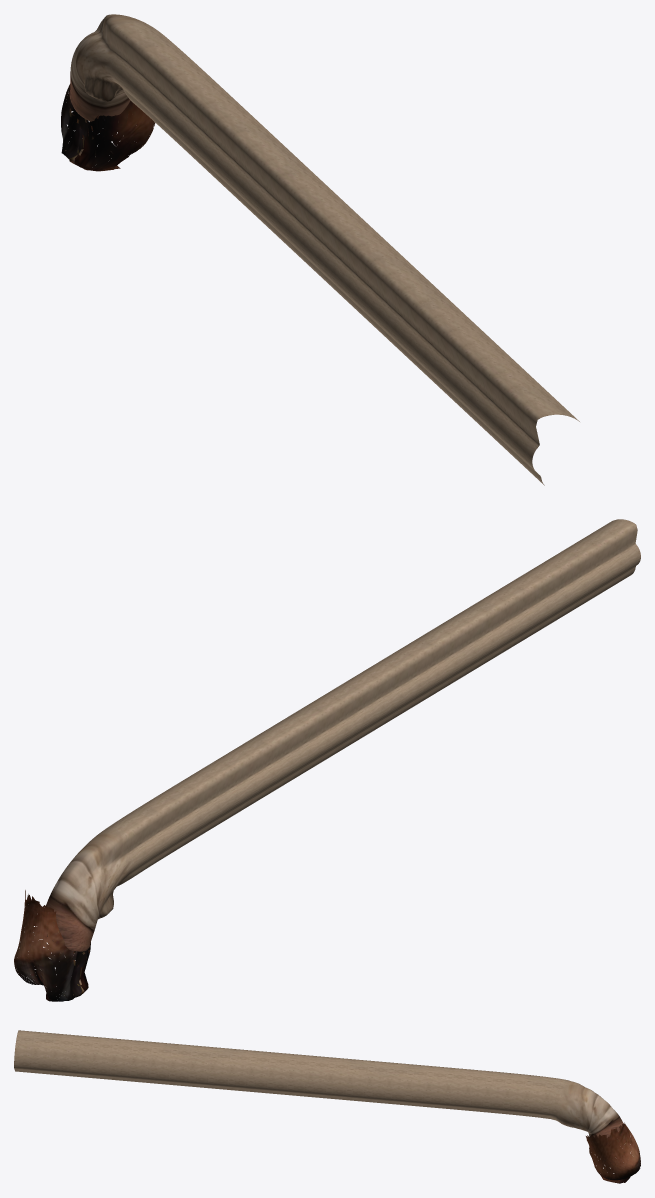
File: boar-grip-v4.glb
The picture shows the model from 3 angles, top to bottom: view 1: azimuth 30°, elevation 25°; view 2: azimuth 150°, elevation 25°; view 3: azimuth 270°, elevation 25°; orthographic projection. The views are drawn at different scales.
Visible parts, largest first — view 1: boar-card-grip; view 2: boar-card-grip; view 3: boar-card-grip.
Part boxes in pixels (x1,y1,x2,y2): boar-card-grip: [61, 14, 579, 485]; boar-card-grip: [14, 519, 640, 1001]; boar-card-grip: [14, 1030, 640, 1183].
Bounding box in the file's own units: 0.5256 × 0.5118 × 2.59.
2 materials, 2 textured.
